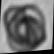correct: (0, 0, 47, 54)
